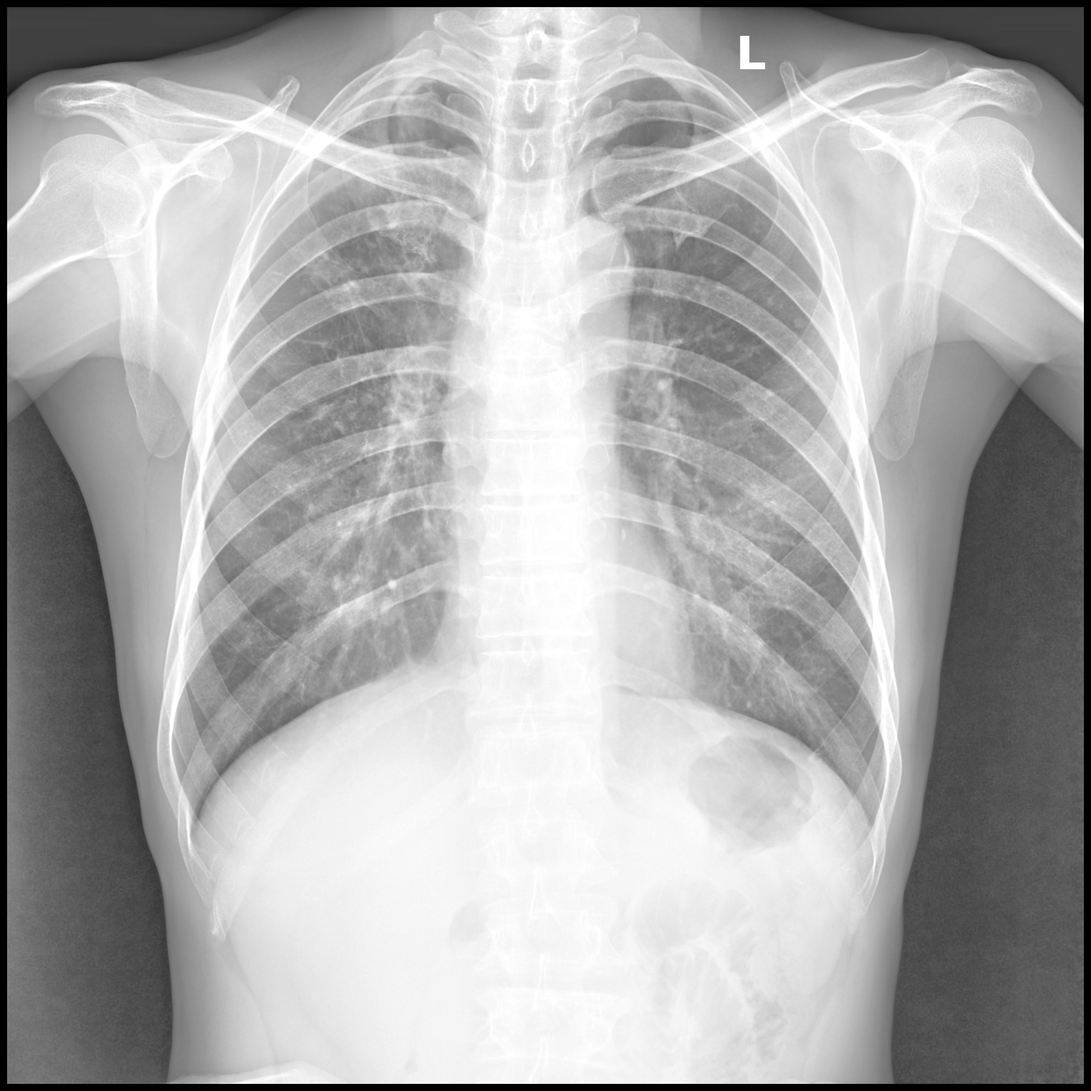Pulmonary fibrosis: (295, 58, 435, 293)
